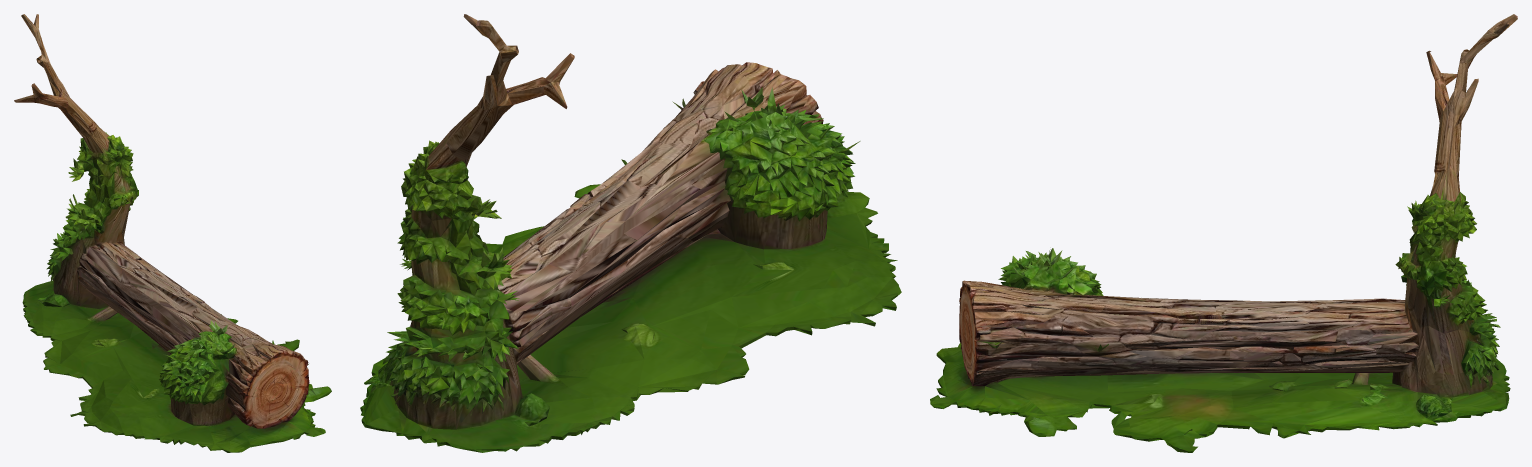
The model's file is tronco.glb.
3 views of the same model, side by side, from view 1: azimuth 30°, elevation 25°; view 2: azimuth 150°, elevation 25°; view 3: azimuth 270°, elevation 25° (orthographic). The views are drawn at different scales.
Parts seen in each view (by area): view 1: plush; view 2: plush; view 3: plush.
Boxes of the visible parts, x1=… form: plush: x1=14, y1=14, x2=331, y2=452; plush: x1=360, y1=14, x2=901, y2=452; plush: x1=930, y1=14, x2=1517, y2=452.
Bounding box in the file's own units: 0.6073 × 0.639 × 0.9759.
1 material, 1 textured.
